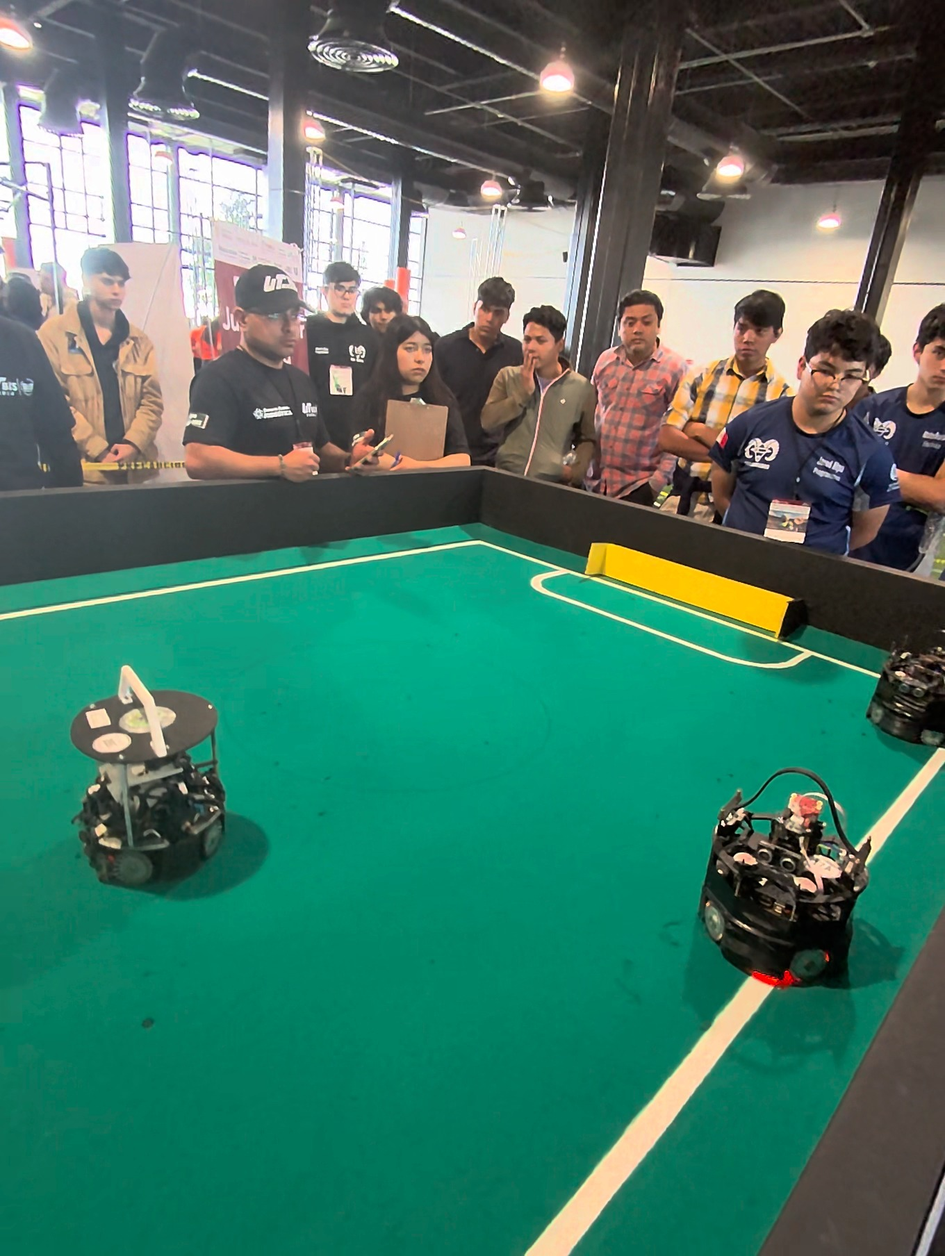Robot: (55, 649, 249, 902), (702, 750, 881, 999), (866, 625, 941, 754)
